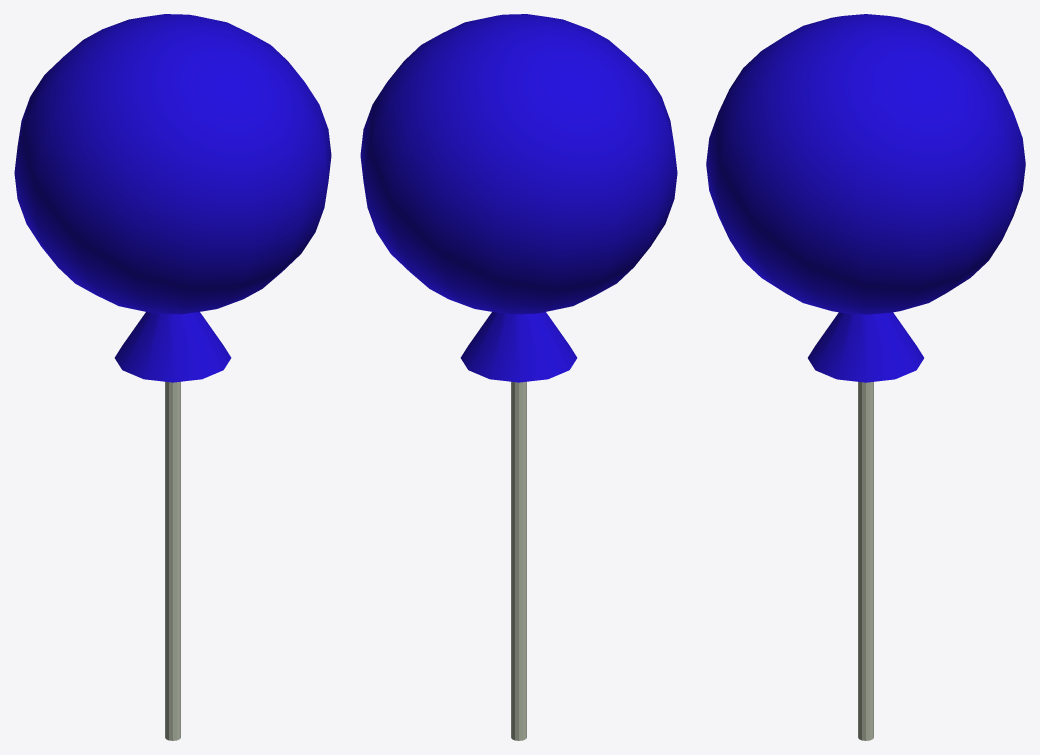
The model's file is Globo.obj.
3 renders of one model, left to right at view 1: azimuth 30°, elevation 25°; view 2: azimuth 150°, elevation 25°; view 3: azimuth 270°, elevation 25°, orthographic.
Parts seen in each view (by area): view 1: Sphere, Cylinder; view 2: Sphere, Cylinder; view 3: Sphere, Cylinder.
Boxes of the visible parts, x1,y1,x2,y2 form: Sphere: [14, 14, 331, 382]; Cylinder: [165, 381, 180, 740]; Sphere: [360, 14, 677, 382]; Cylinder: [511, 381, 526, 740]; Sphere: [706, 14, 1025, 382]; Cylinder: [858, 382, 873, 740].
Bounding box in the file's own units: 2.12 × 5.18 × 2.12.
2 materials, 2 textured.
